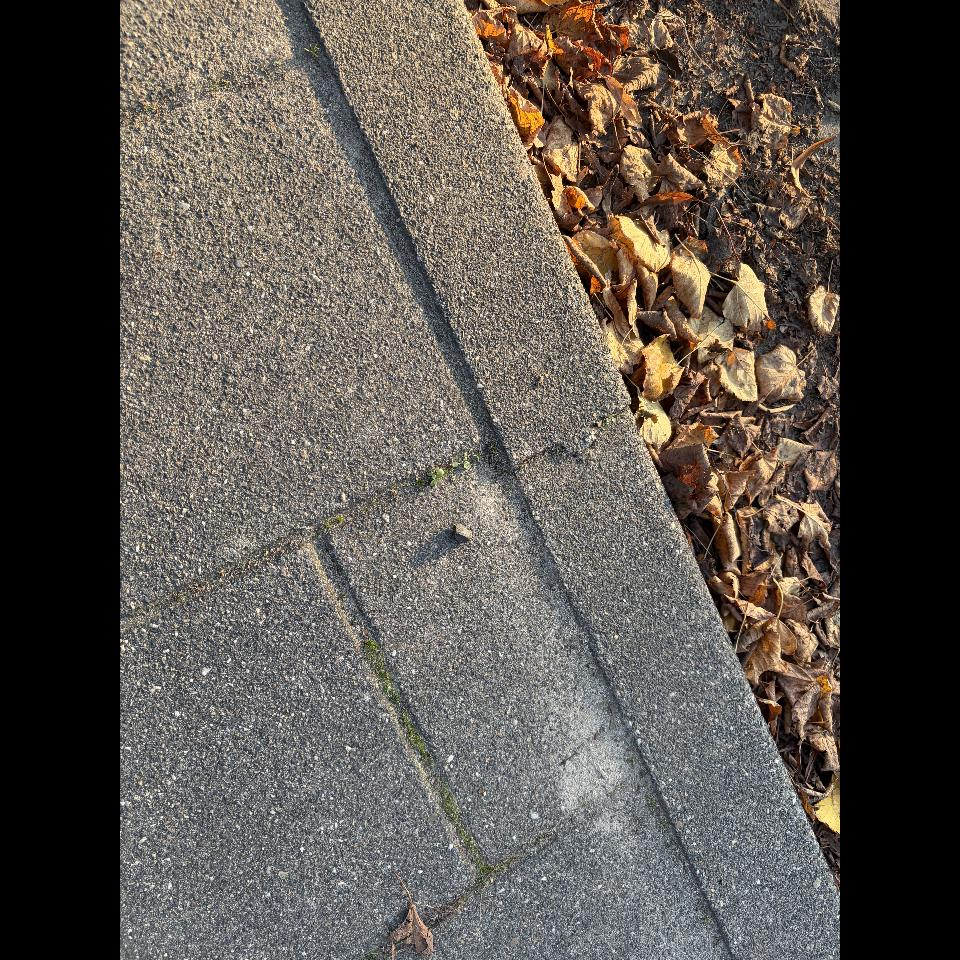weed: (428, 467, 445, 488), (303, 41, 319, 59), (596, 414, 617, 427), (453, 458, 471, 469), (475, 453, 482, 463)
